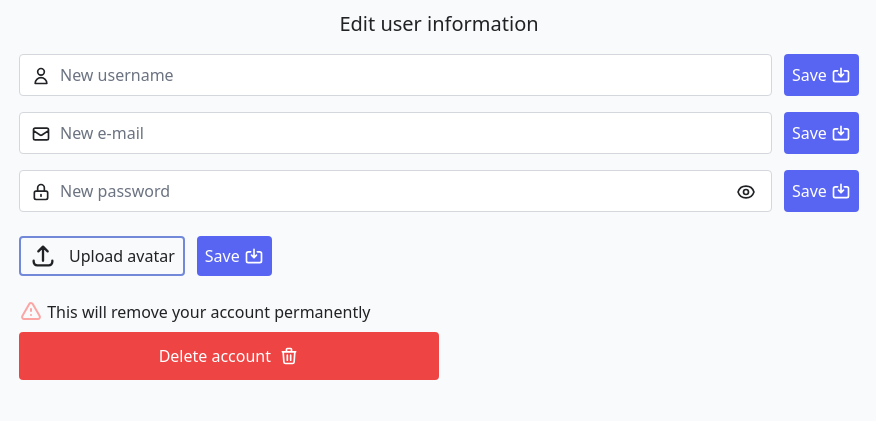
Scenario: Invalid values › Should display error message if user name is invalid
This screenshot has width=876, height=421.
In the field named "user-name-input": (395, 75) [19,54,772,96], type "de"
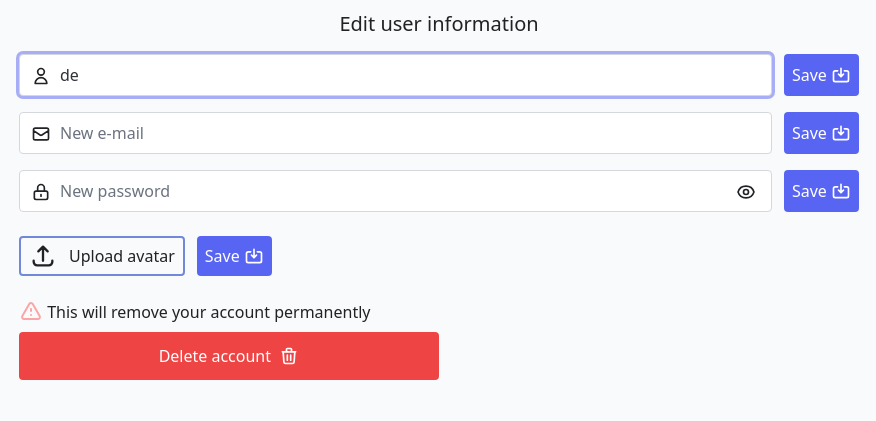
Click the button with aria-label "save-updated-user-name": (821, 75) [784,54,859,96]
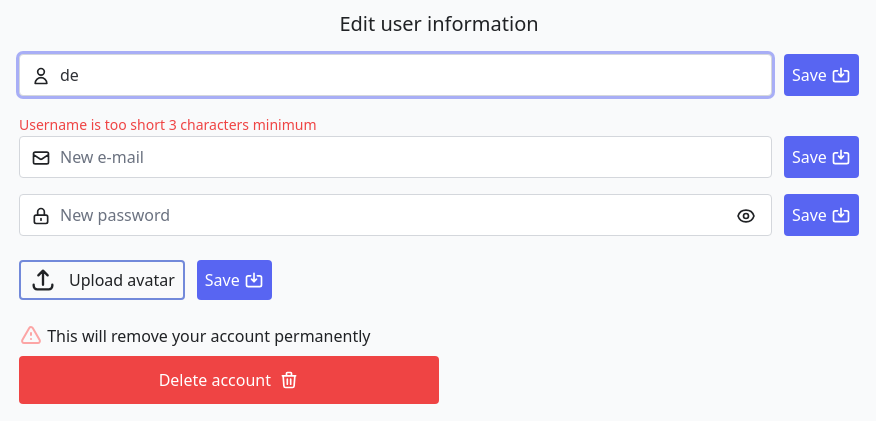
Now the text "Username is too short 3 characters minimum" is shown, box [19,115,316,134]
